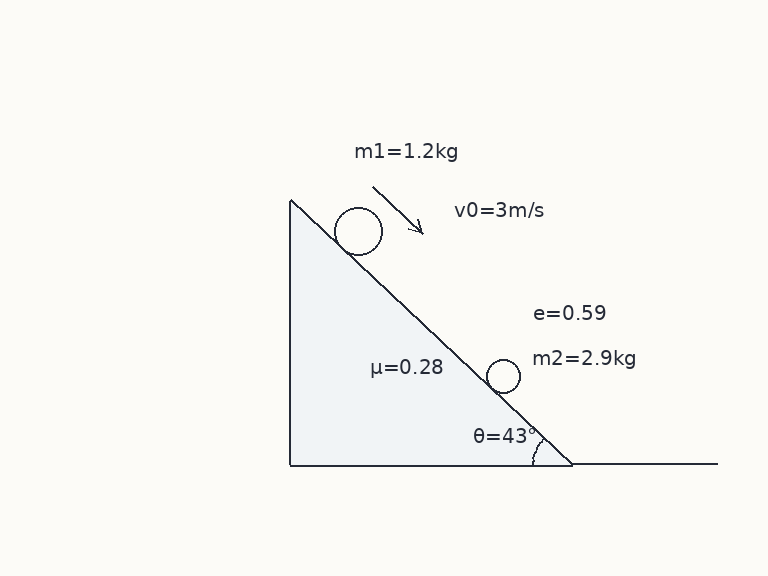ball: (332, 205, 384, 257), (484, 357, 522, 395)
ramp: (288, 199, 575, 467)
